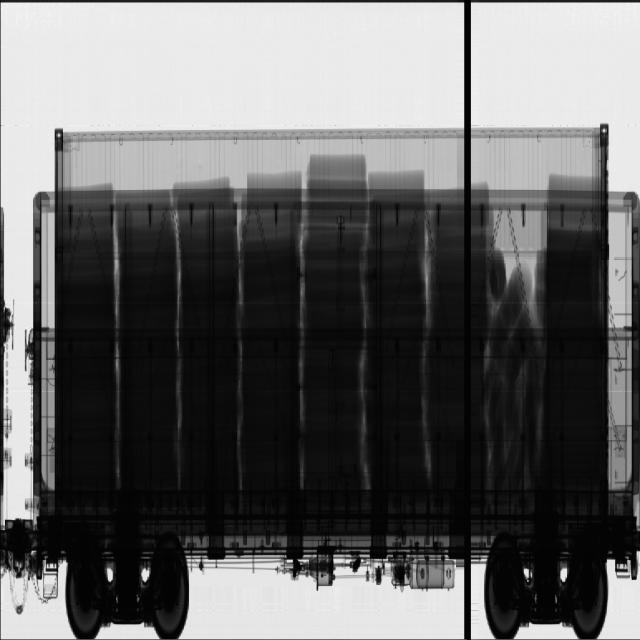fabrics: (46, 138, 401, 477)
